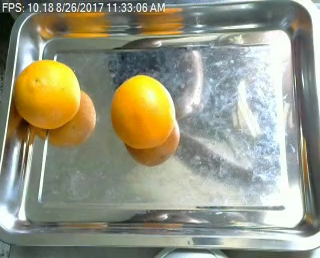Orange: (110, 74, 175, 149), (15, 59, 81, 130)
